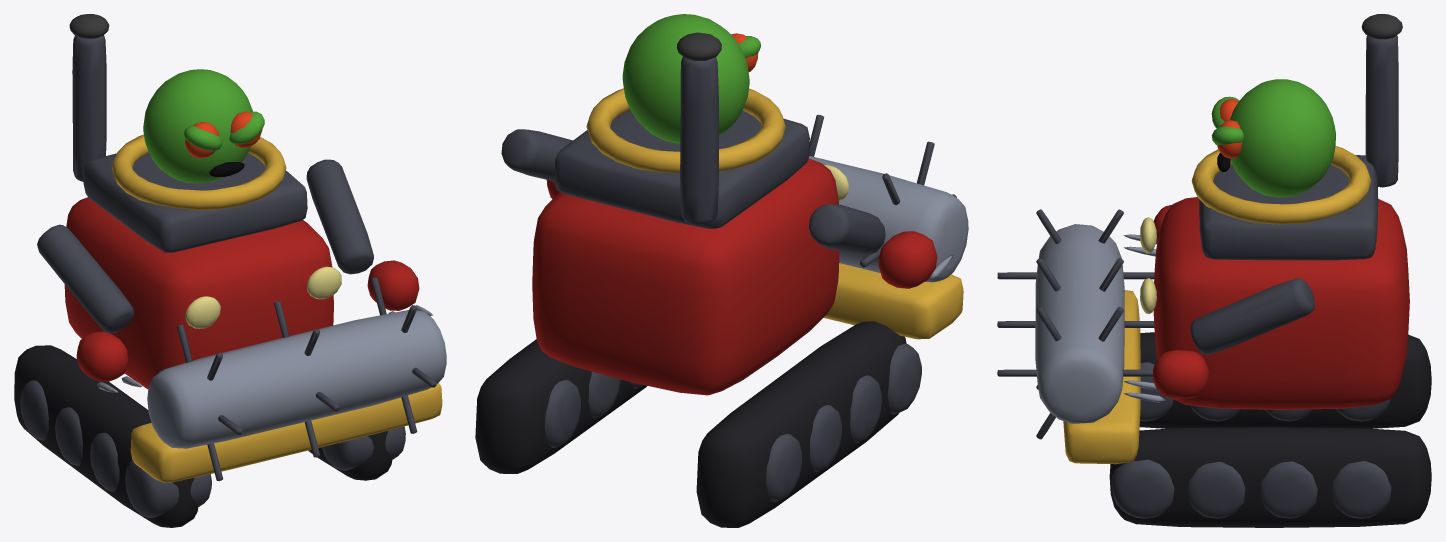
File: ErnteRoboter.fbx
3 renders of one model, left to right at view 1: azimuth 30°, elevation 25°; view 2: azimuth 150°, elevation 25°; view 3: azimuth 270°, elevation 25°, orthographic. The views are drawn at different scales.
Parts seen in each view (by area): view 1: ErnteRoboter; view 2: ErnteRoboter; view 3: ErnteRoboter.
Part boxes in pixels (x1,y1,x2,y2): ErnteRoboter: (14,14,446,527); ErnteRoboter: (475,14,968,527); ErnteRoboter: (997,14,1431,527).
Bounding box in the file's own units: 1.1 × 1.32 × 1.21.
